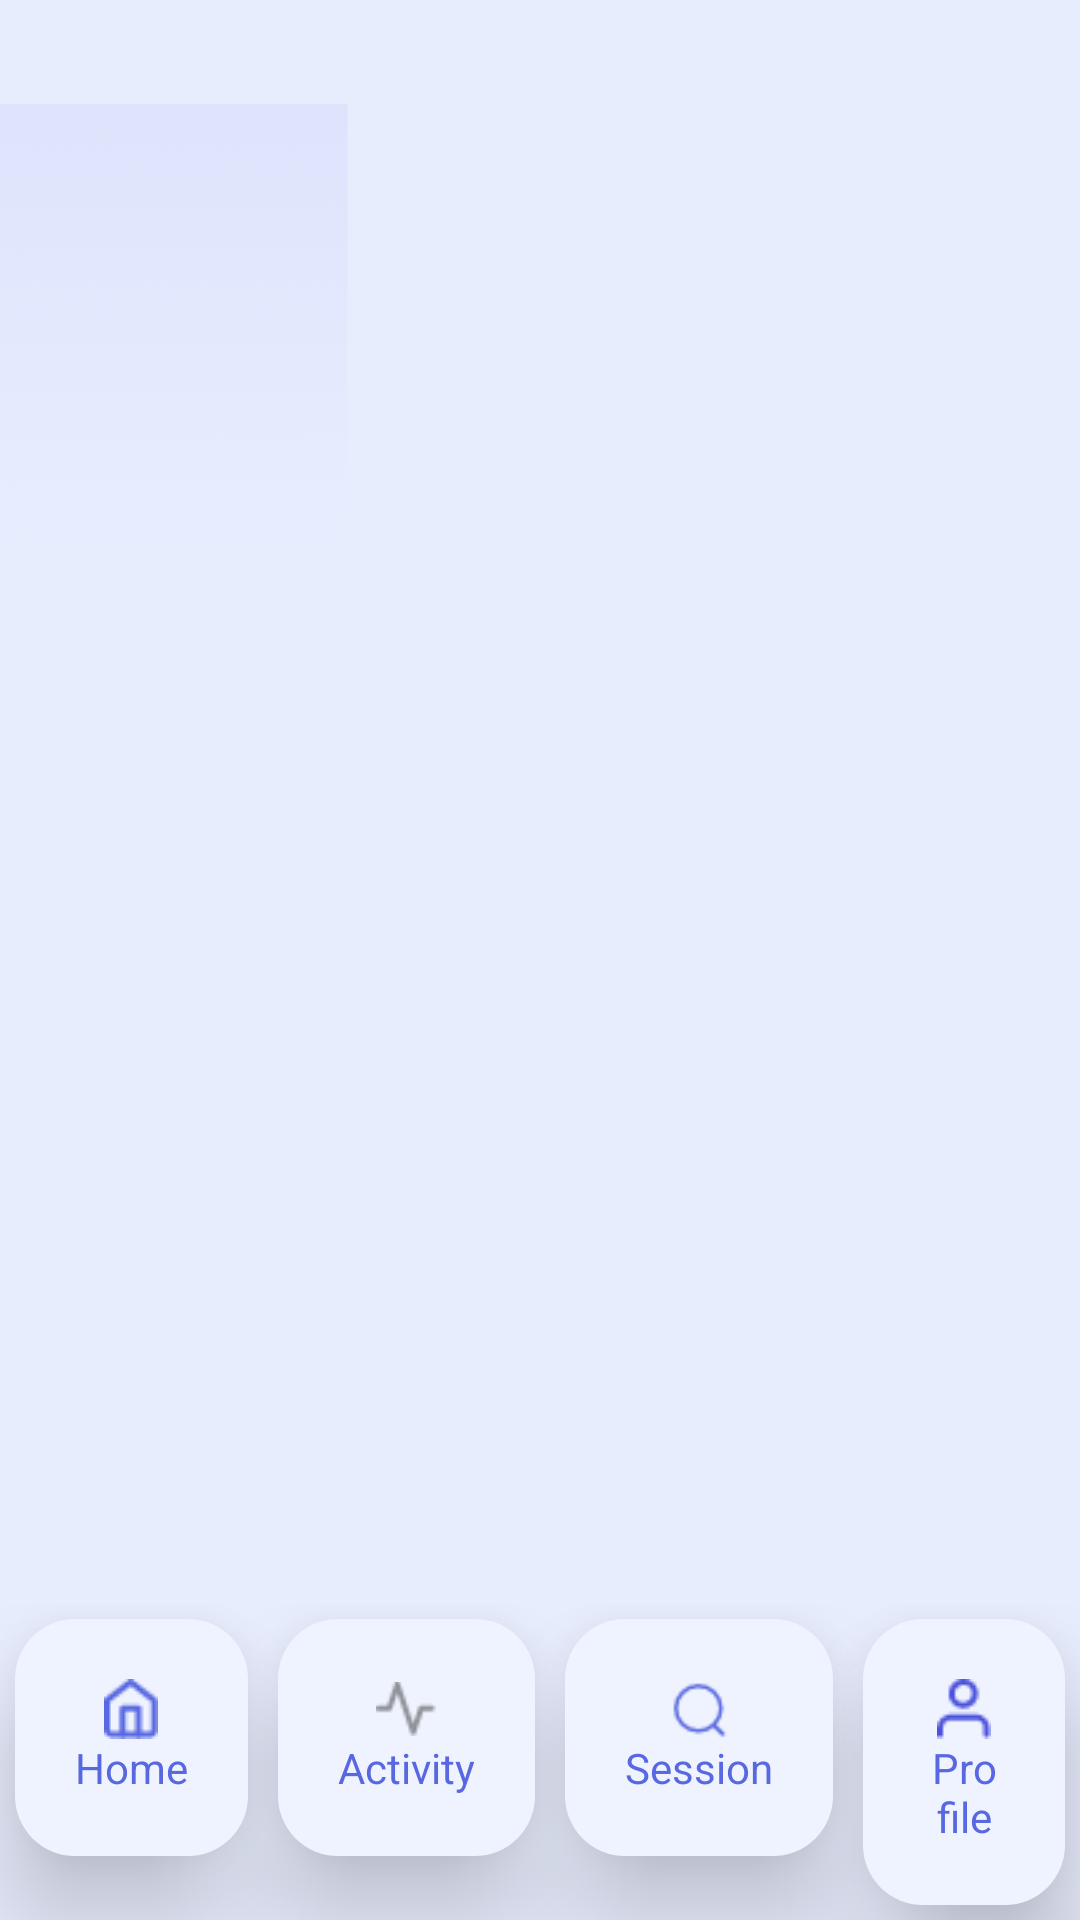

Point at icon controls on the screen. Image size 1080w x 1920h, points as point (x, y).
search: point (699, 1710)
